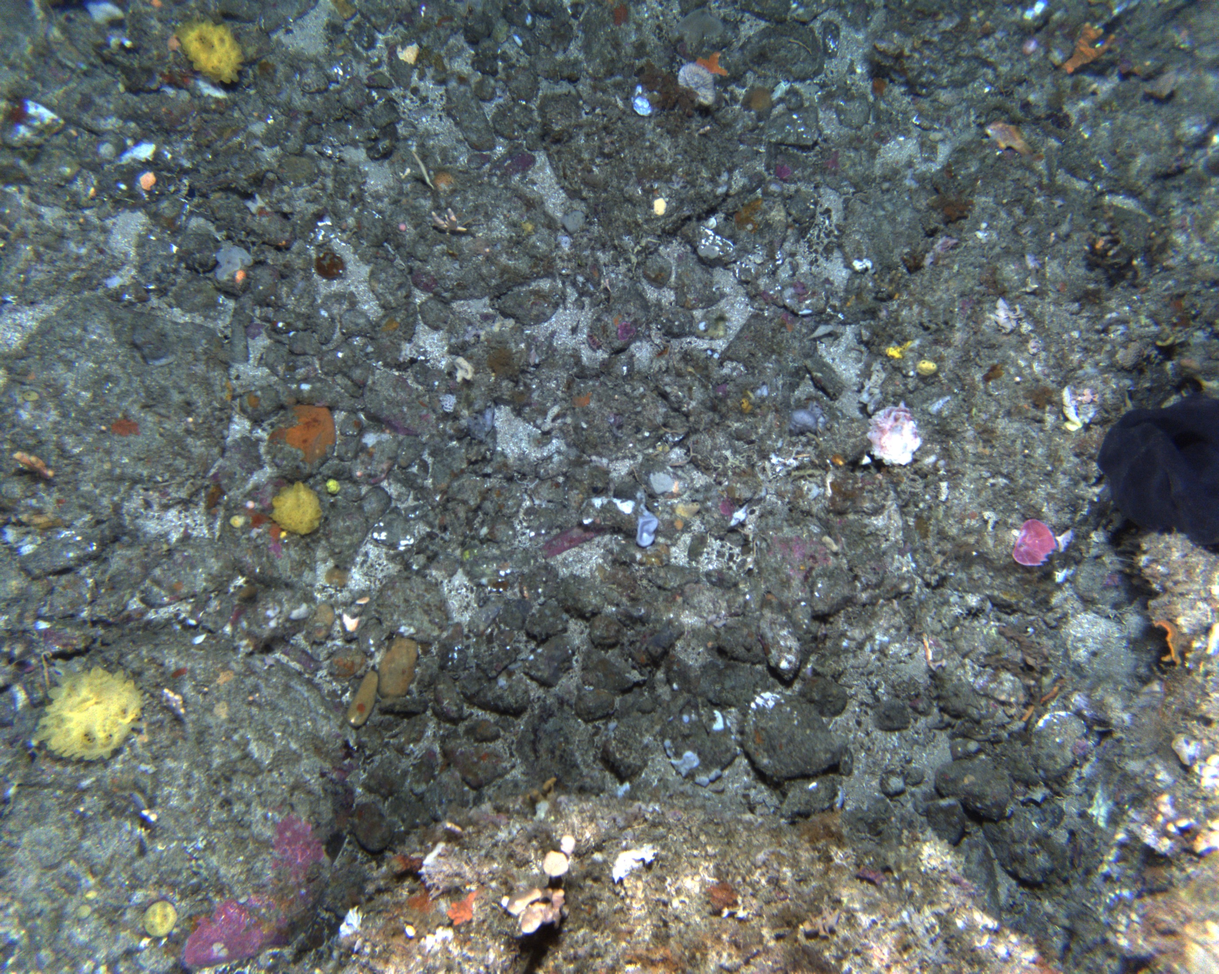Brachionichthyidae: (983, 117, 1045, 164)
